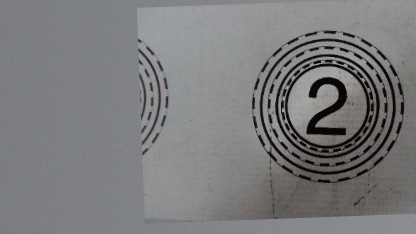2r: (246, 25, 407, 186)
